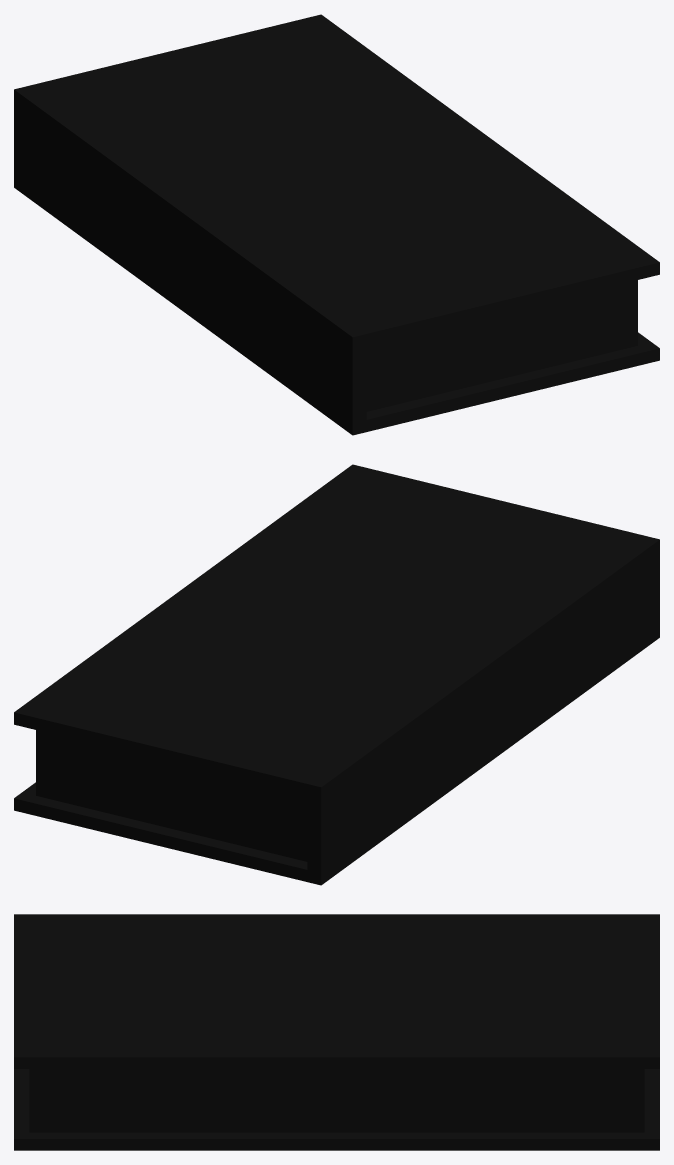
File: VHSBox_02.glb
The picture shows the model from 3 angles, top to bottom: view 1: azimuth 30°, elevation 25°; view 2: azimuth 150°, elevation 25°; view 3: azimuth 270°, elevation 25°; orthographic projection. The views are drawn at different scales.
Parts seen in each view (by area): view 1: Mesh_VHSBox_02; view 2: Mesh_VHSBox_02; view 3: Mesh_VHSBox_02.
Part boxes in pixels (<box>): Mesh_VHSBox_02: <box>14,14,659,435</box>; Mesh_VHSBox_02: <box>14,464,659,885</box>; Mesh_VHSBox_02: <box>14,914,659,1150</box>.
Size of the model in its own units: 0.11 by 0.0336 by 0.21.
1 material, 1 textured.
